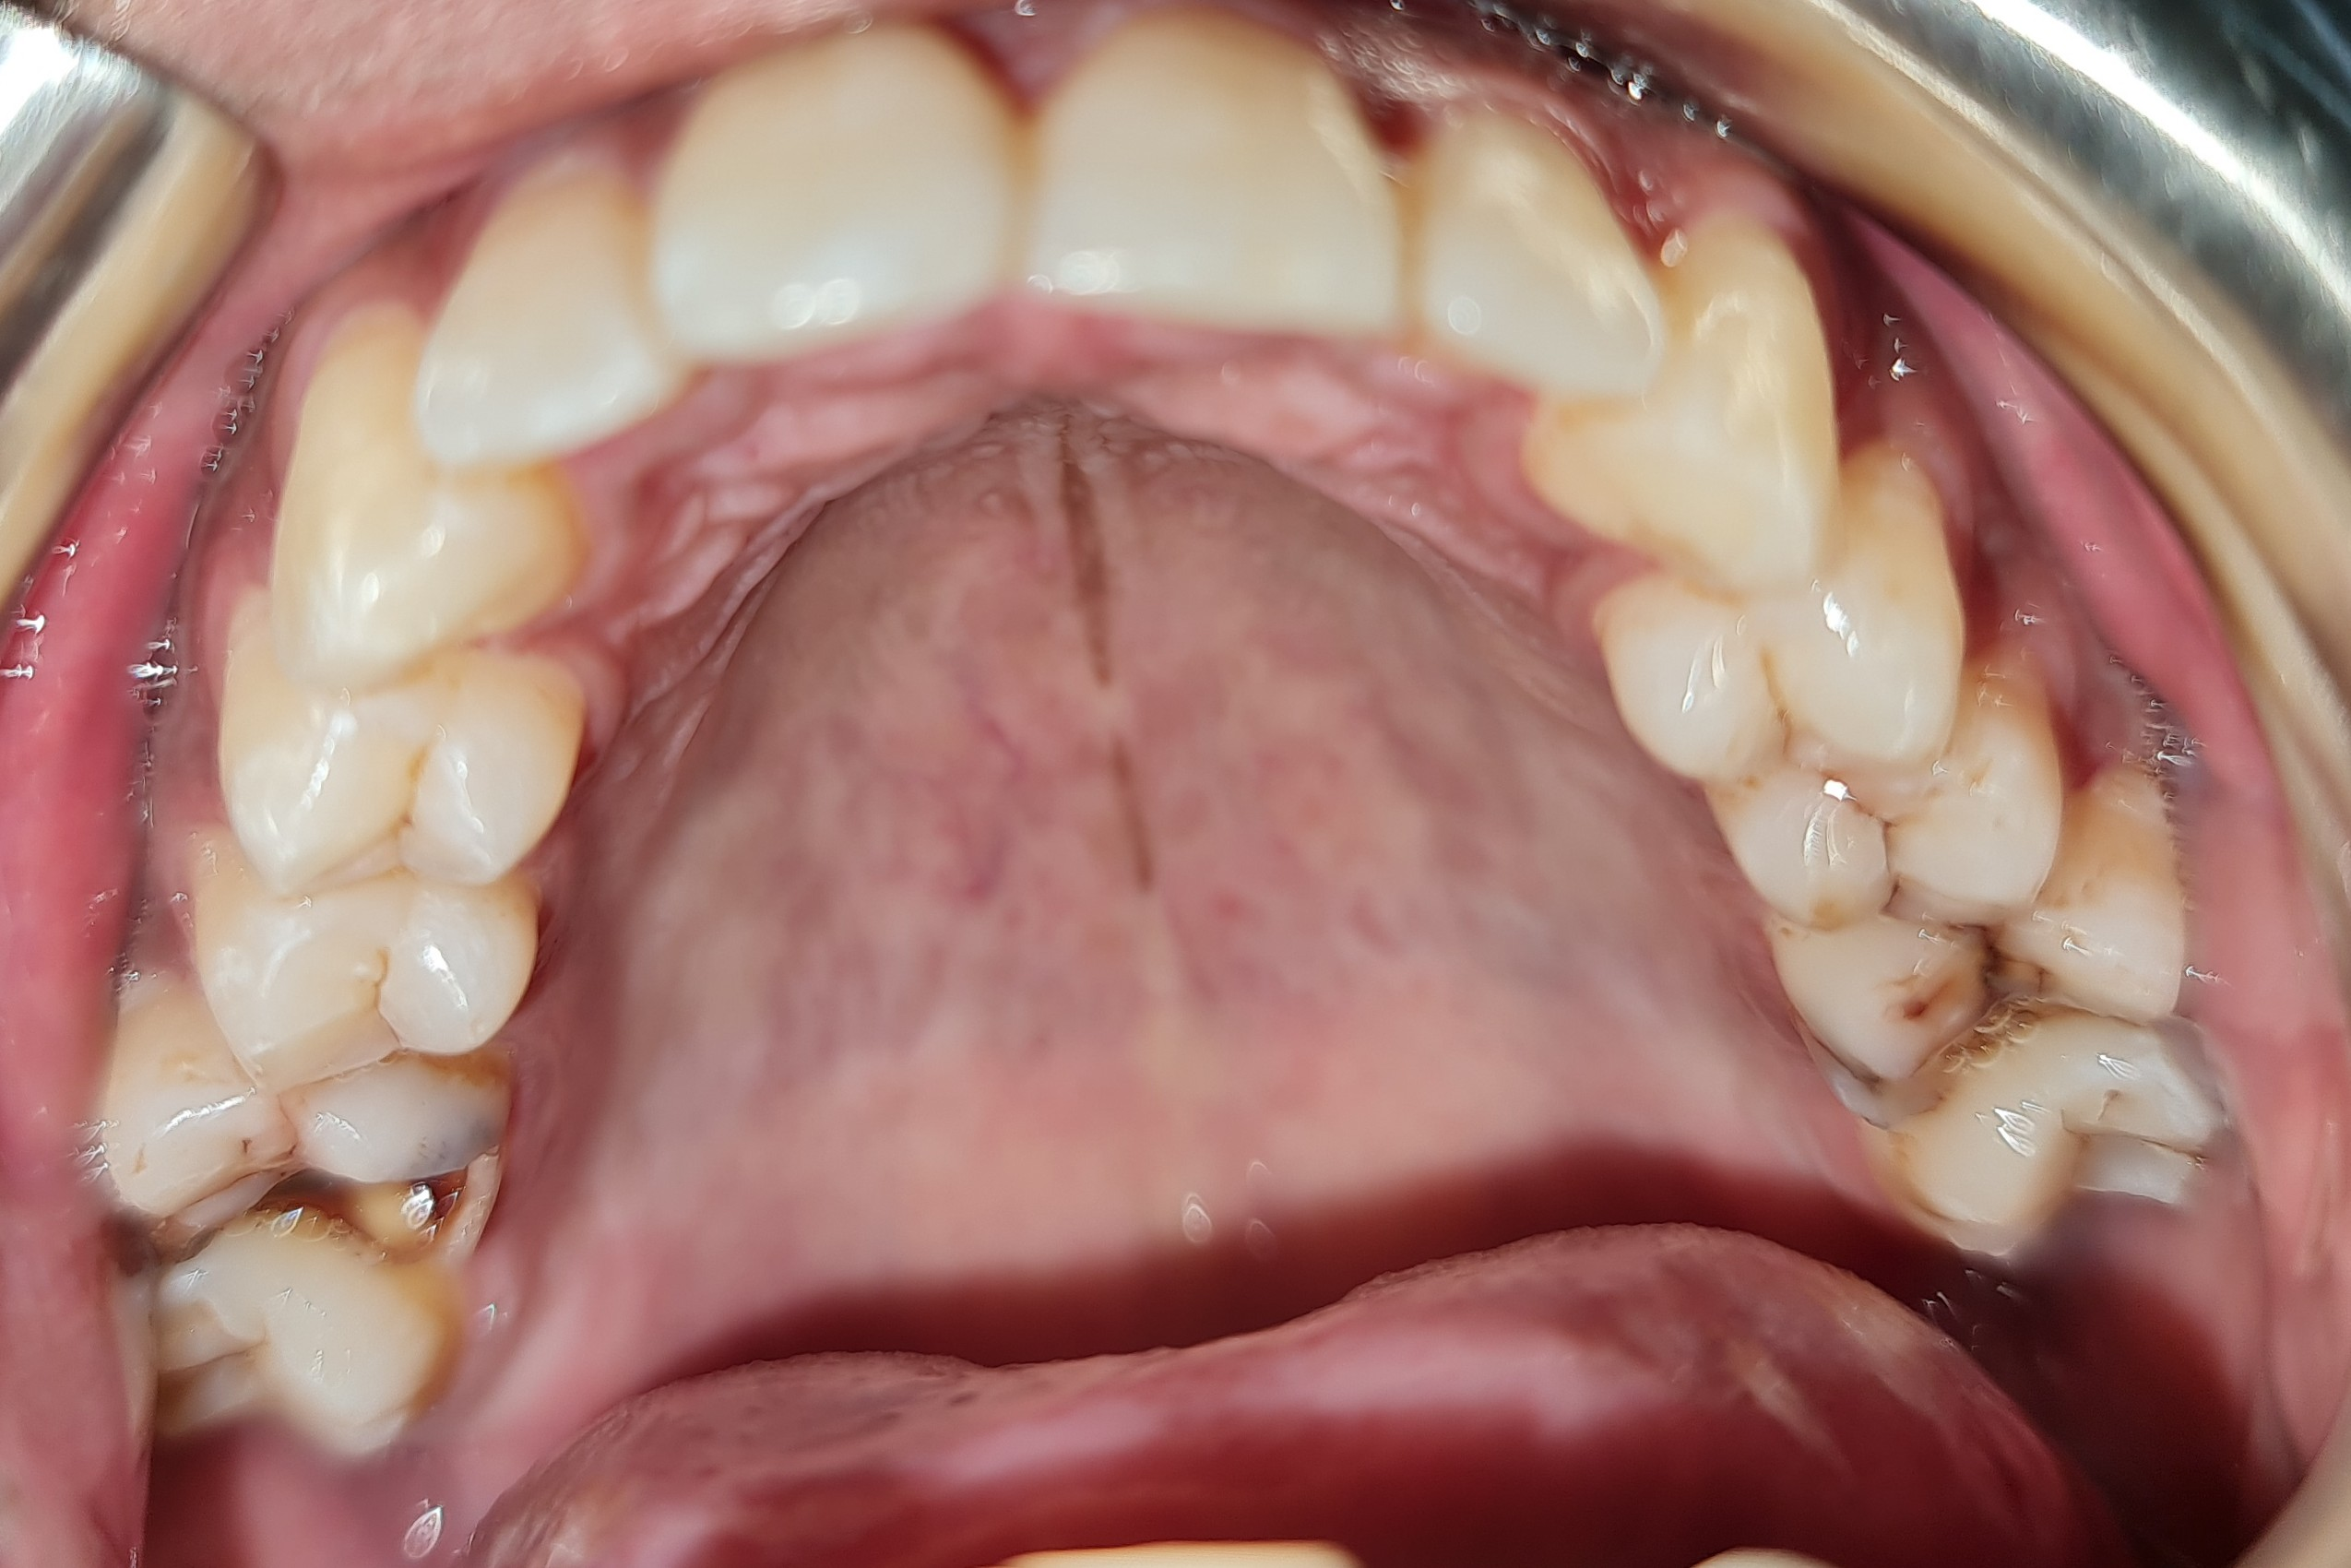D: (1747, 778, 2201, 1125), (89, 952, 515, 1288), (1708, 642, 2064, 930)
